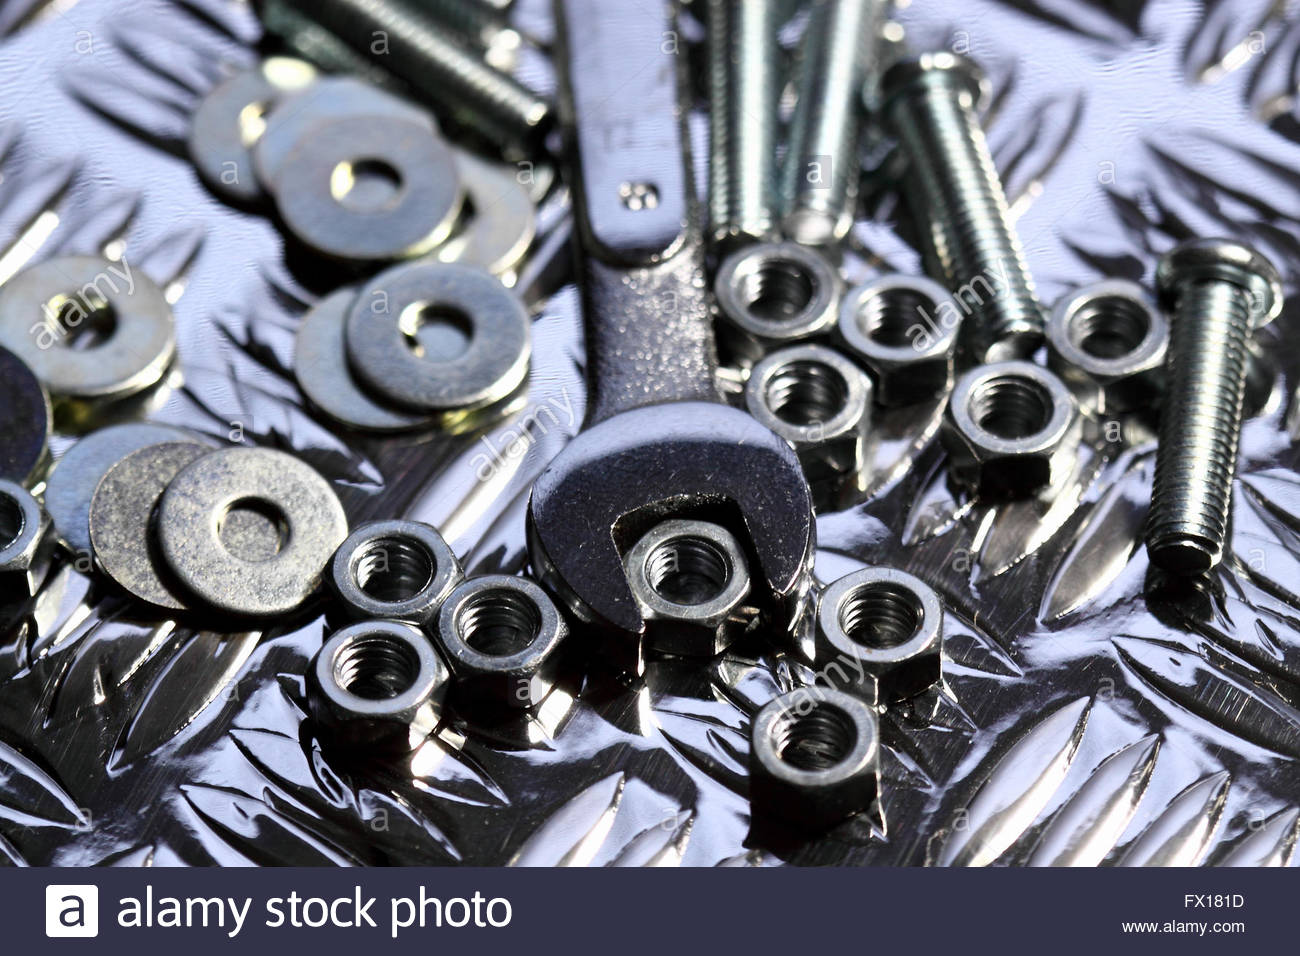flat washer: (139, 430, 360, 638), (250, 100, 471, 308), (1, 233, 221, 441), (332, 247, 538, 428)
hex nut: (303, 495, 472, 637), (289, 606, 458, 748), (608, 507, 777, 649), (725, 333, 894, 475), (690, 226, 859, 368), (415, 569, 584, 711), (736, 679, 905, 821), (922, 352, 1091, 494), (815, 256, 984, 398), (1031, 261, 1200, 403), (796, 555, 965, 697)
